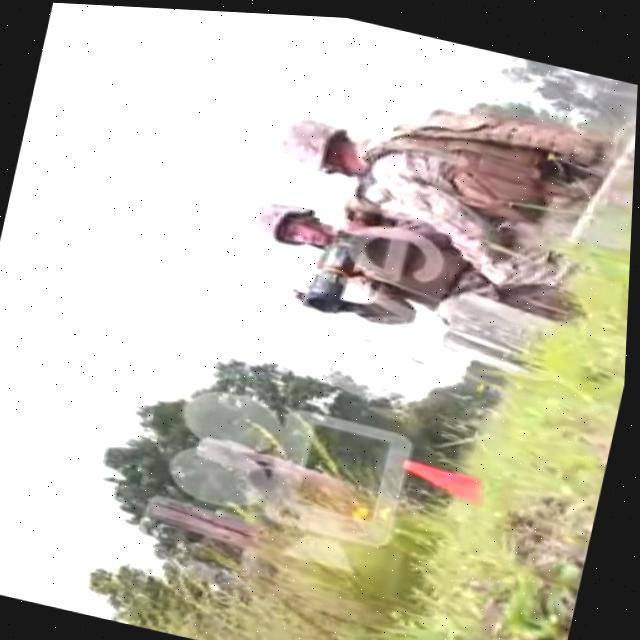rocket: (294, 210, 366, 312)
